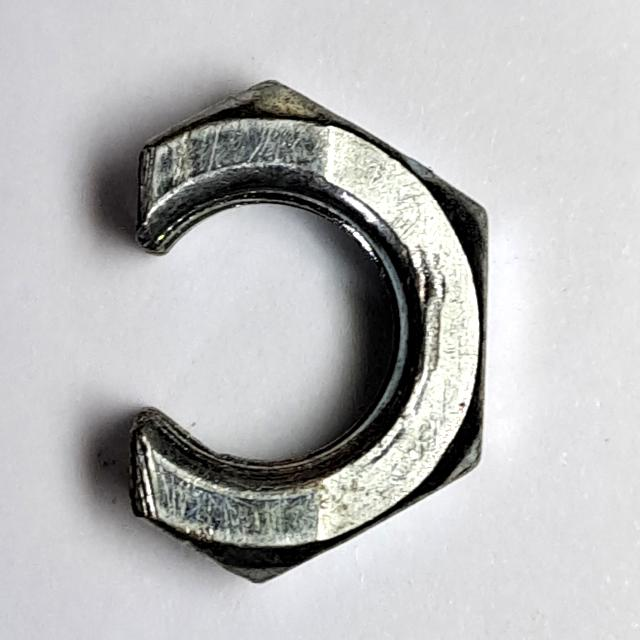Fracture: (111, 62, 507, 601)
